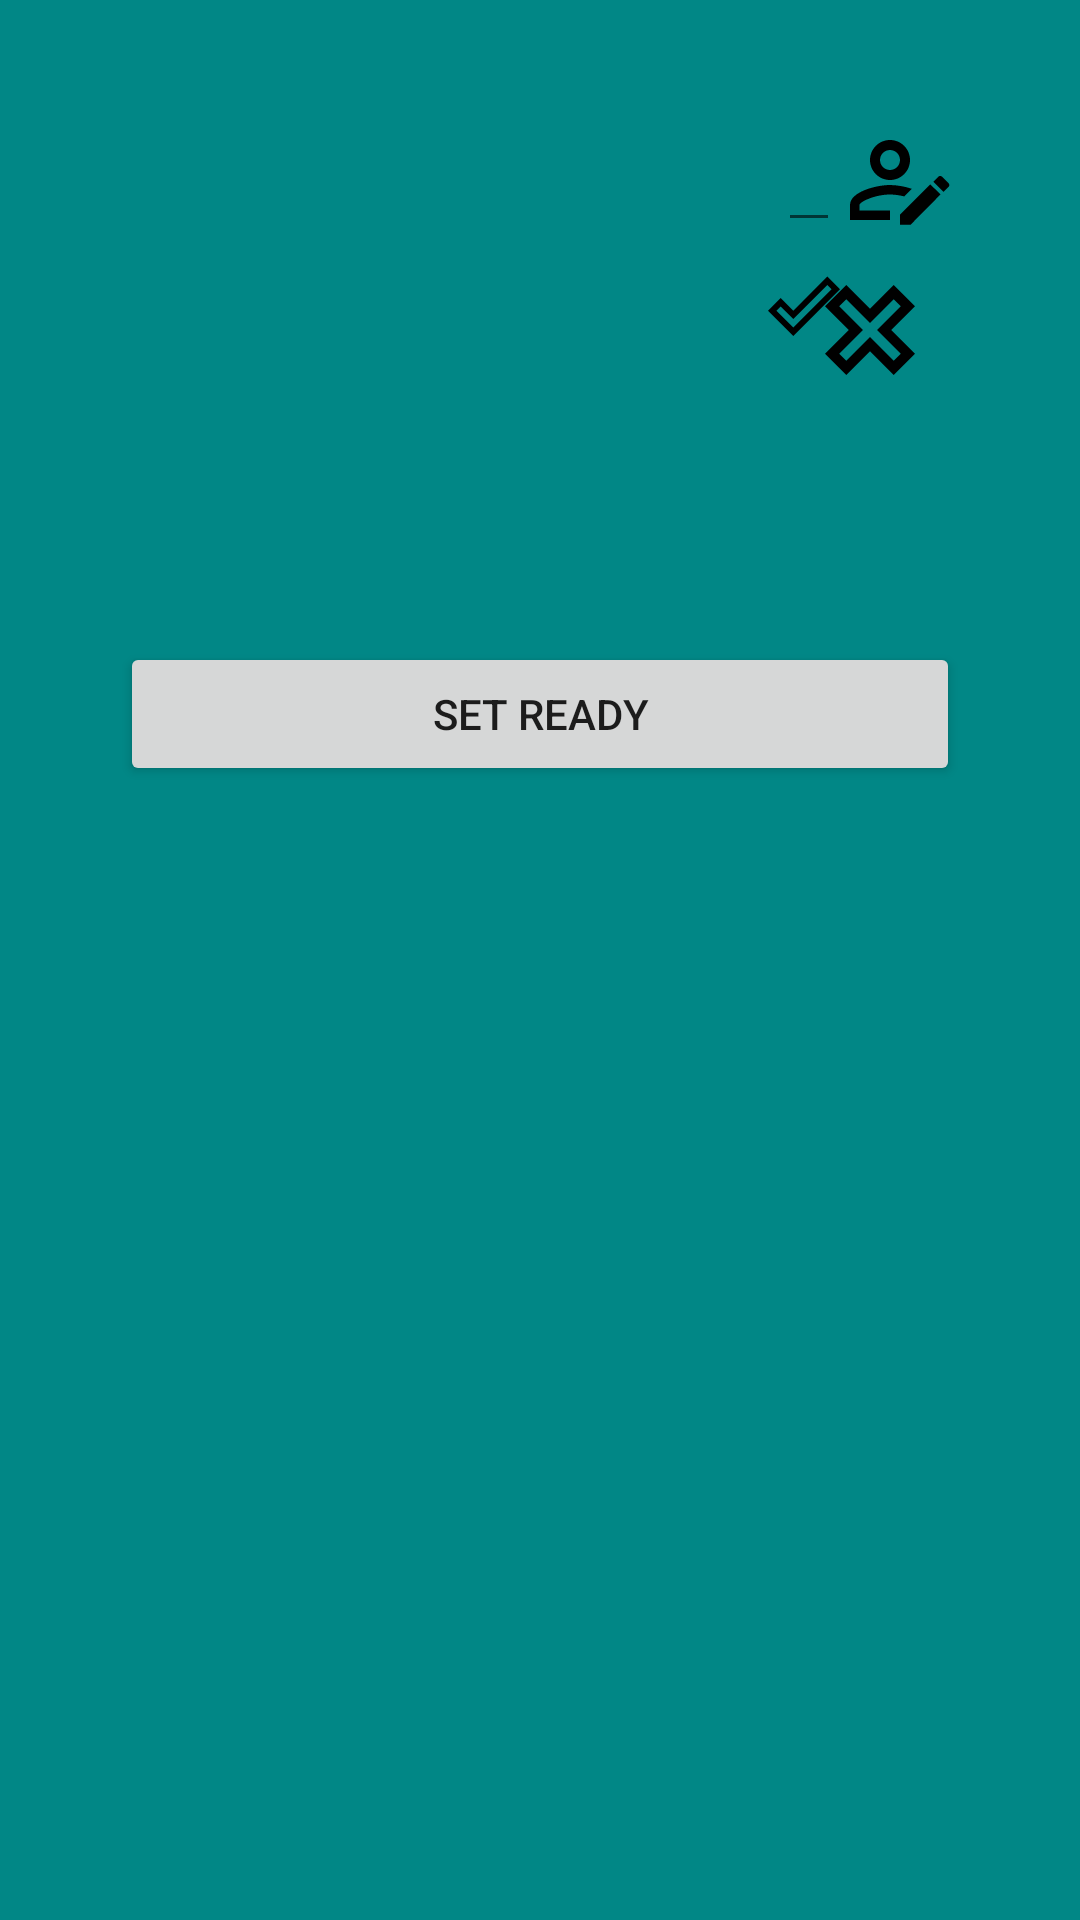

Icons on this 1080px×1920px Android screen, each with its box as (x1, y1, x2, y2):
edit username: (850, 140, 950, 225)
